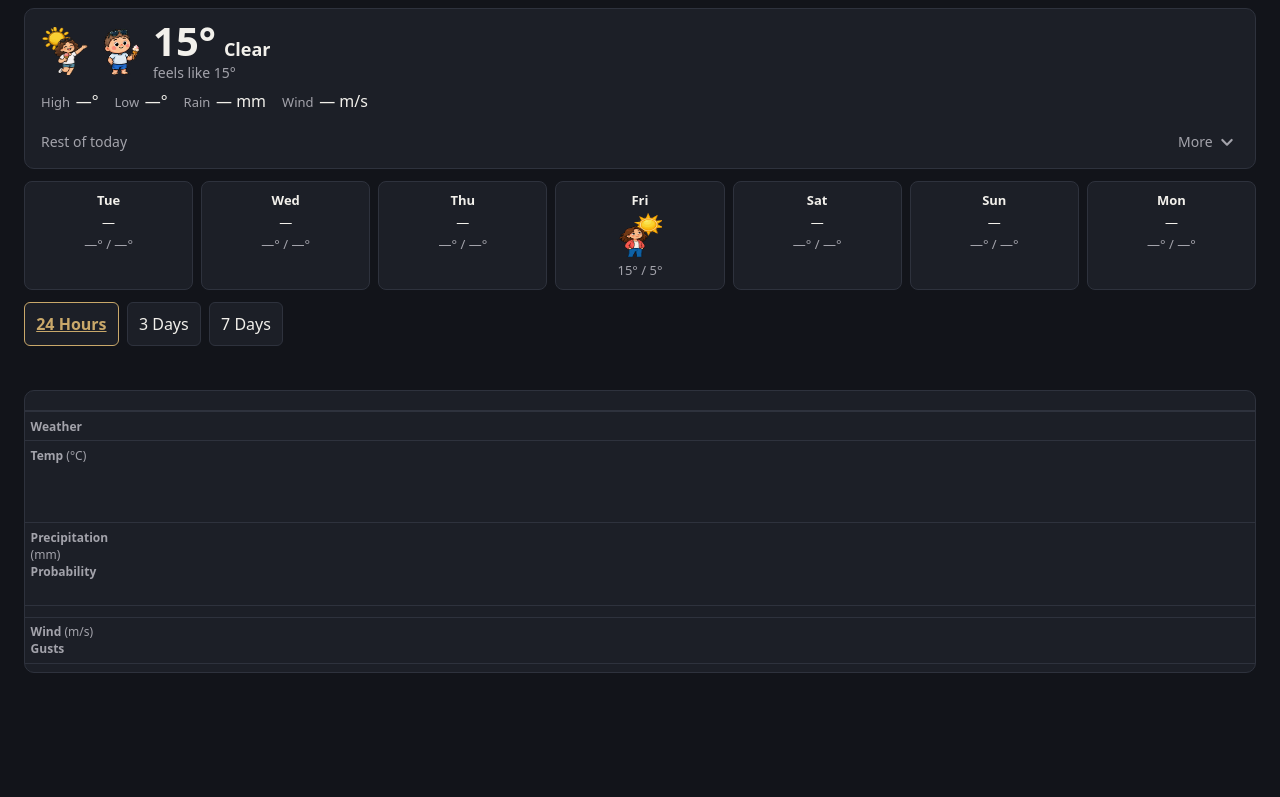
Test: High/Low on the Overview (014-dashboard-usability-fixes, US4) › shows each day's high/low alongside the average when the toggle is on
Click the button "7 Days" at (246, 324), box [209,302,283,346]
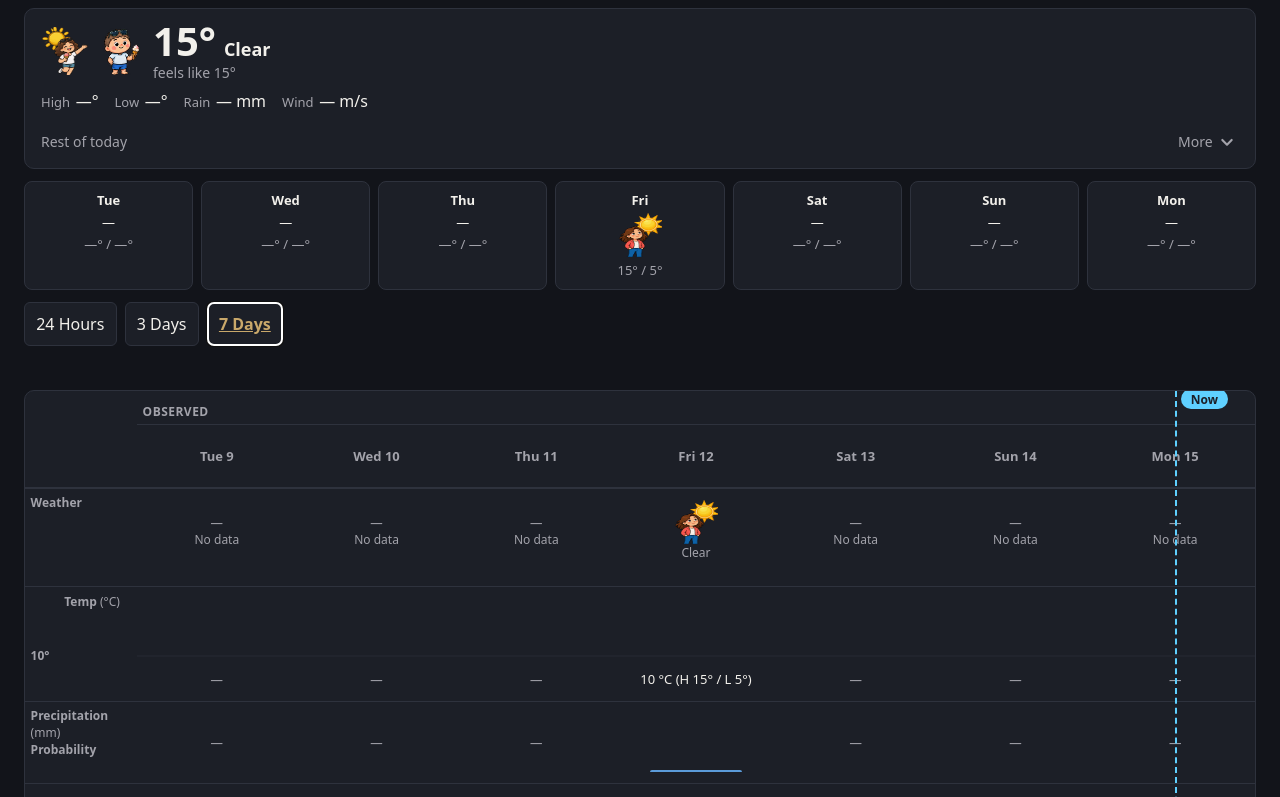
Check: the text "10 °C (H 15° / L 5°)" is shown, box [640,670,752,688]
